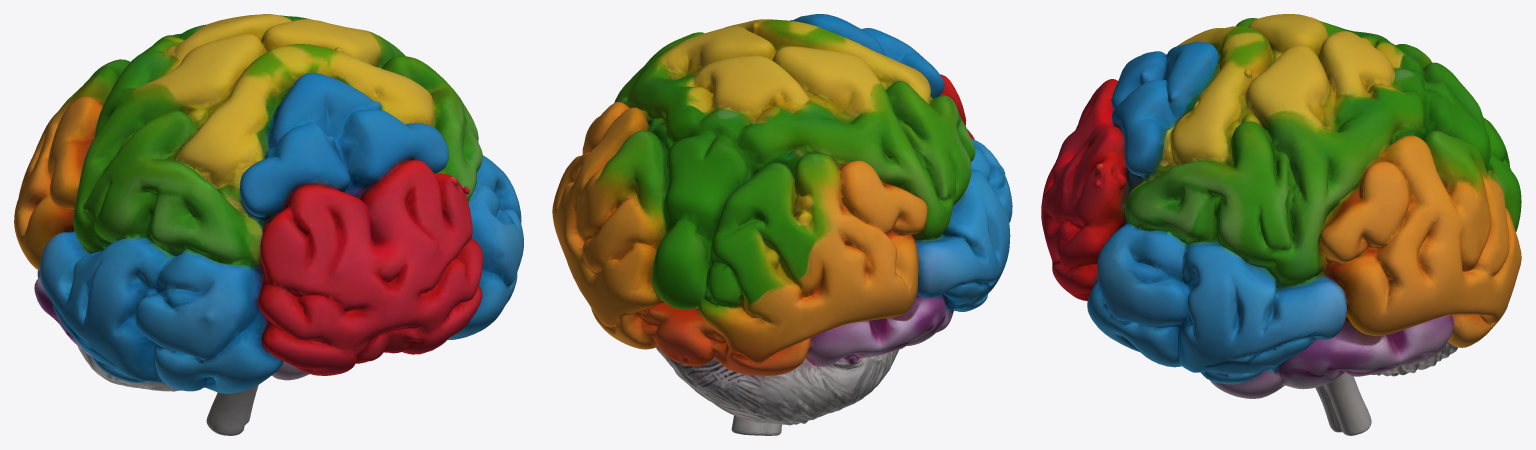
The model's file is brain.glb.
3 views of the same model, side by side, from view 1: azimuth 30°, elevation 25°; view 2: azimuth 150°, elevation 25°; view 3: azimuth 270°, elevation 25° (orthographic). The views are drawn at different scales.
Parts seen in each view (by area): view 1: tripo_node_f44c1a8a-5355-41f3-891a-bc188245221e; view 2: tripo_node_f44c1a8a-5355-41f3-891a-bc188245221e; view 3: tripo_node_f44c1a8a-5355-41f3-891a-bc188245221e.
Part boxes in pixels (x1,y1,x2,y2): tripo_node_f44c1a8a-5355-41f3-891a-bc188245221e: (14, 14, 523, 435); tripo_node_f44c1a8a-5355-41f3-891a-bc188245221e: (552, 14, 1012, 435); tripo_node_f44c1a8a-5355-41f3-891a-bc188245221e: (1041, 14, 1521, 435).
Size of the model in its own units: 0.9944 by 0.907 by 0.9999.
Materials: 1 (1 with a texture image).
